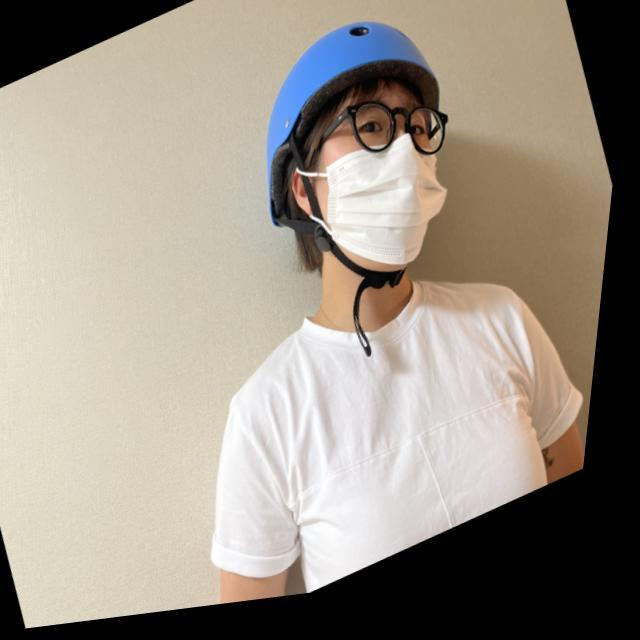Helmet: (262, 19, 452, 278)
